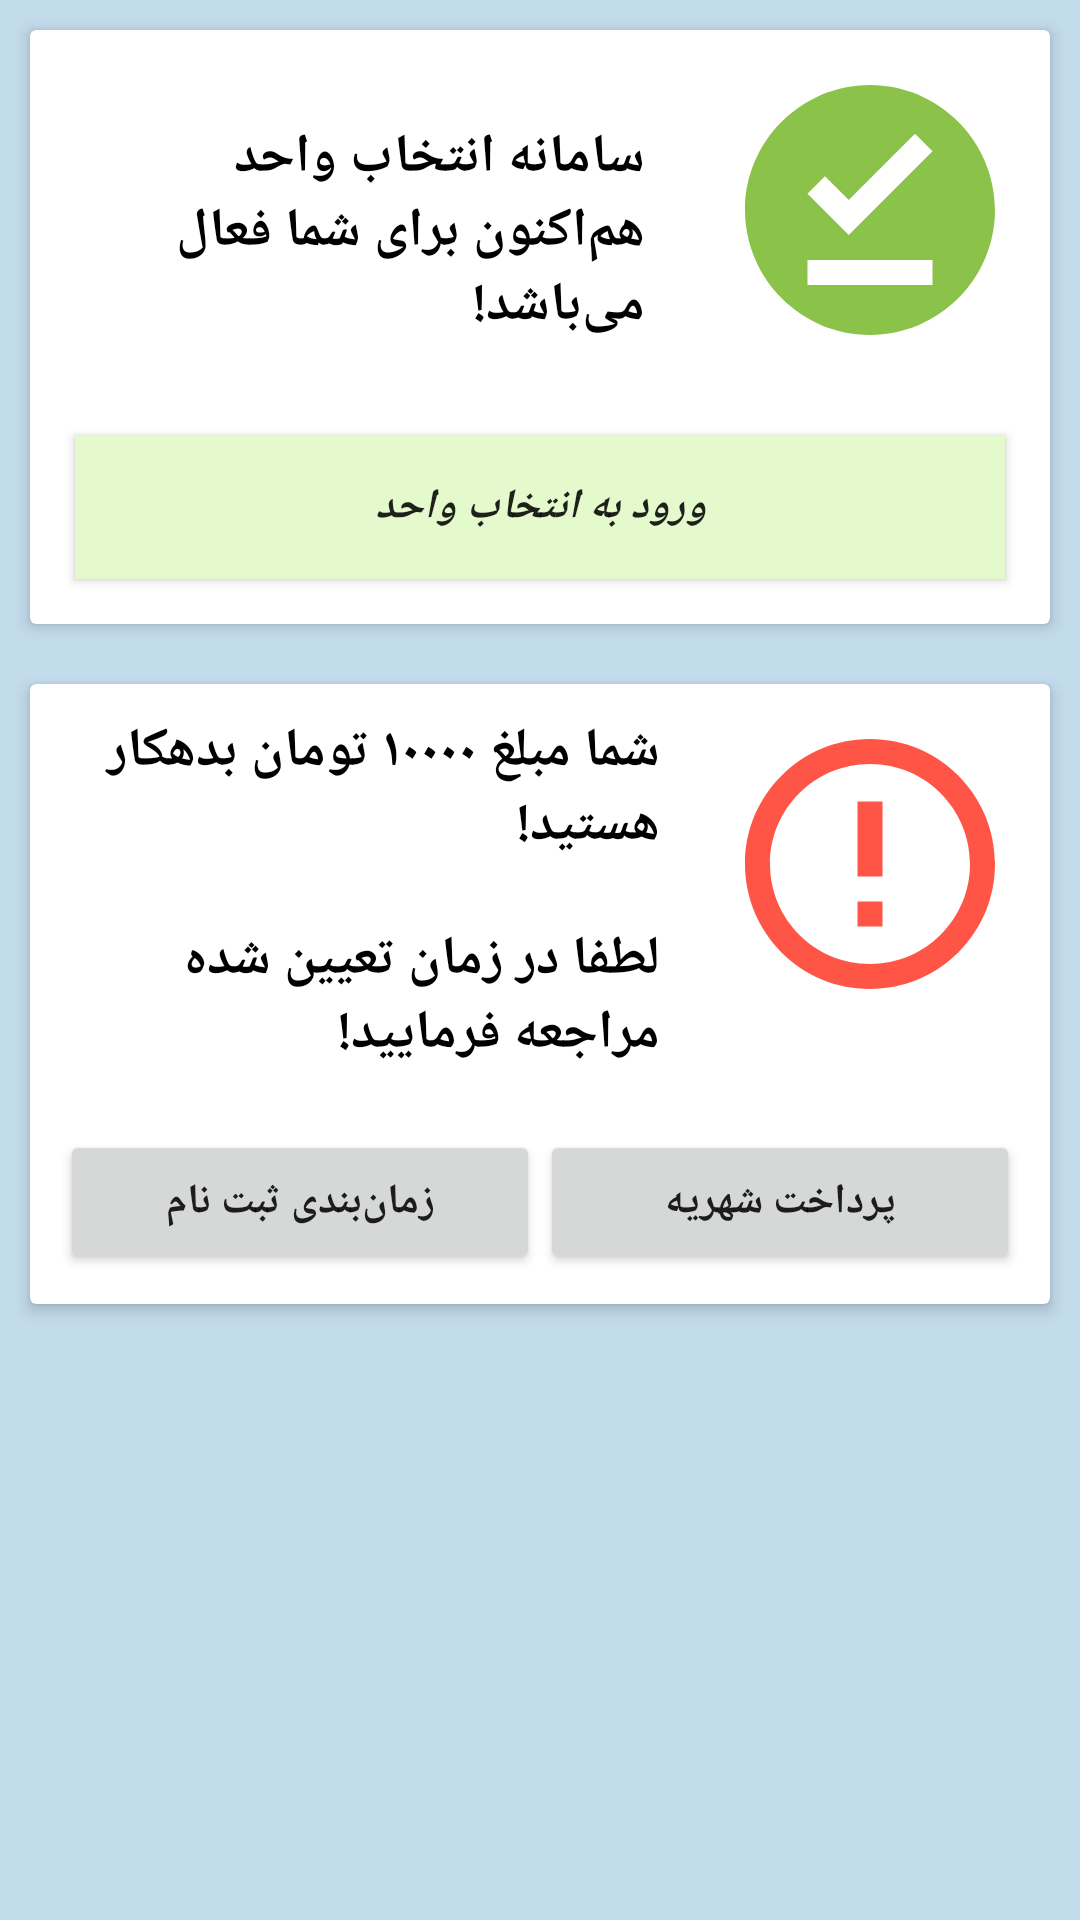

Icon bounding boxes for this 1080px x 1920px phone screenshot, format (x1, y1, x2, y2):
error: (745, 739, 995, 989)
offline pin: (745, 85, 995, 335)
